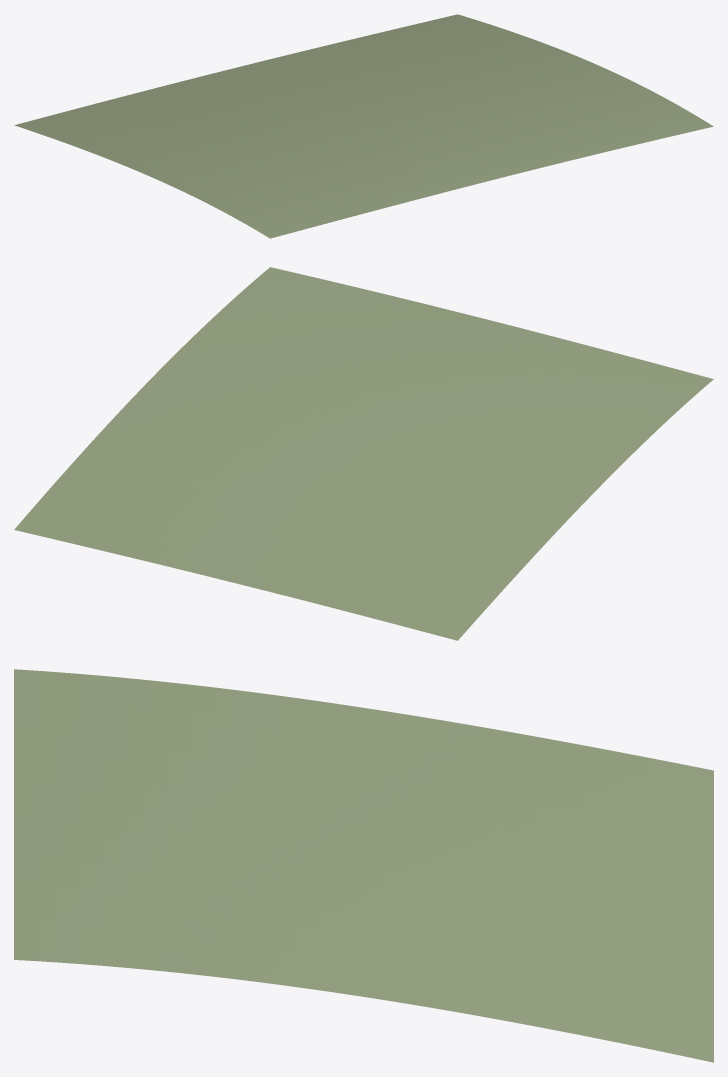
File: expanse-29-6.glb
The picture shows the model from 3 angles, top to bottom: view 1: azimuth 30°, elevation 25°; view 2: azimuth 150°, elevation 25°; view 3: azimuth 270°, elevation 25°; orthographic projection. The views are drawn at different scales.
Visible parts, largest first — view 1: expanse-29-6; view 2: expanse-29-6; view 3: expanse-29-6.
Part boxes in pixels (left/top/right/bottom): expanse-29-6: left=14, top=14, right=713, bottom=238; expanse-29-6: left=14, top=267, right=713, bottom=640; expanse-29-6: left=14, top=669, right=713, bottom=1062.
Size of the model in its own units: 256 by 43.51 by 256.
